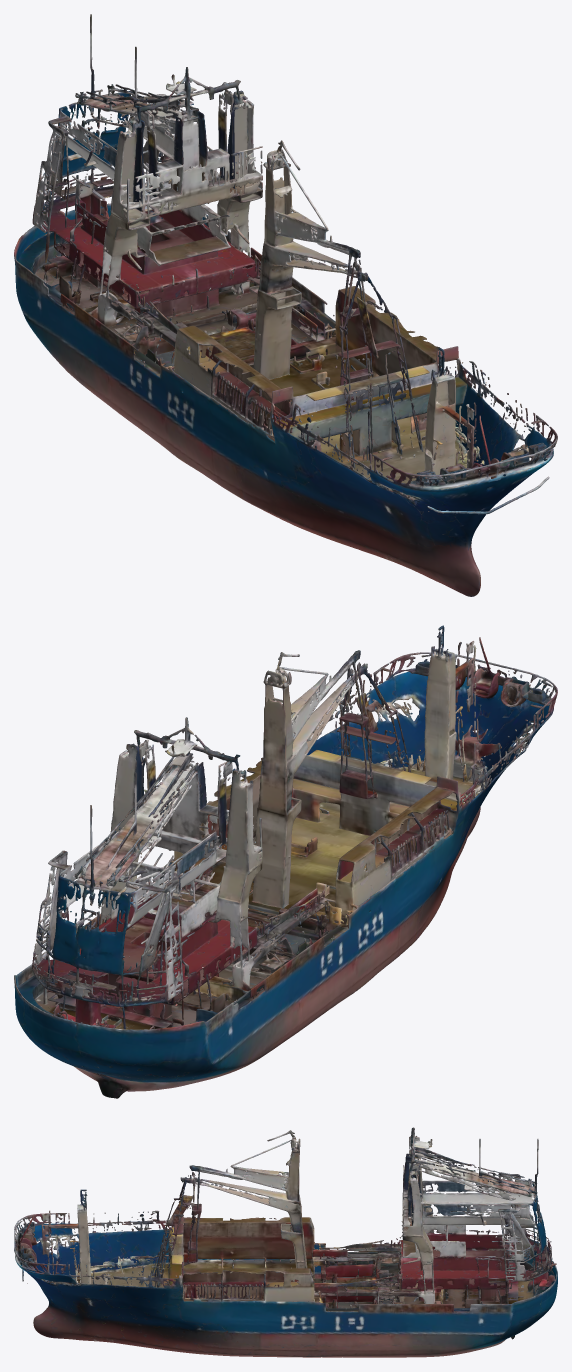
The model's file is P1-mean_2026-05-06T151635.906.glb.
3 views of the same model, one above another, from view 1: azimuth 30°, elevation 25°; view 2: azimuth 150°, elevation 25°; view 3: azimuth 270°, elevation 25° (orthographic). The views are drawn at different scales.
Parts seen in each view (by area): view 1: world; view 2: world; view 3: world.
Part boxes in pixels (left/top/right/bottom): world: left=14, top=14, right=557, bottom=596; world: left=14, top=625, right=557, bottom=1098; world: left=14, top=1127, right=557, bottom=1357.
Bounding box in the file's own units: 0.2642 × 0.4284 × 1.
Materials: 1 (1 with a texture image).
